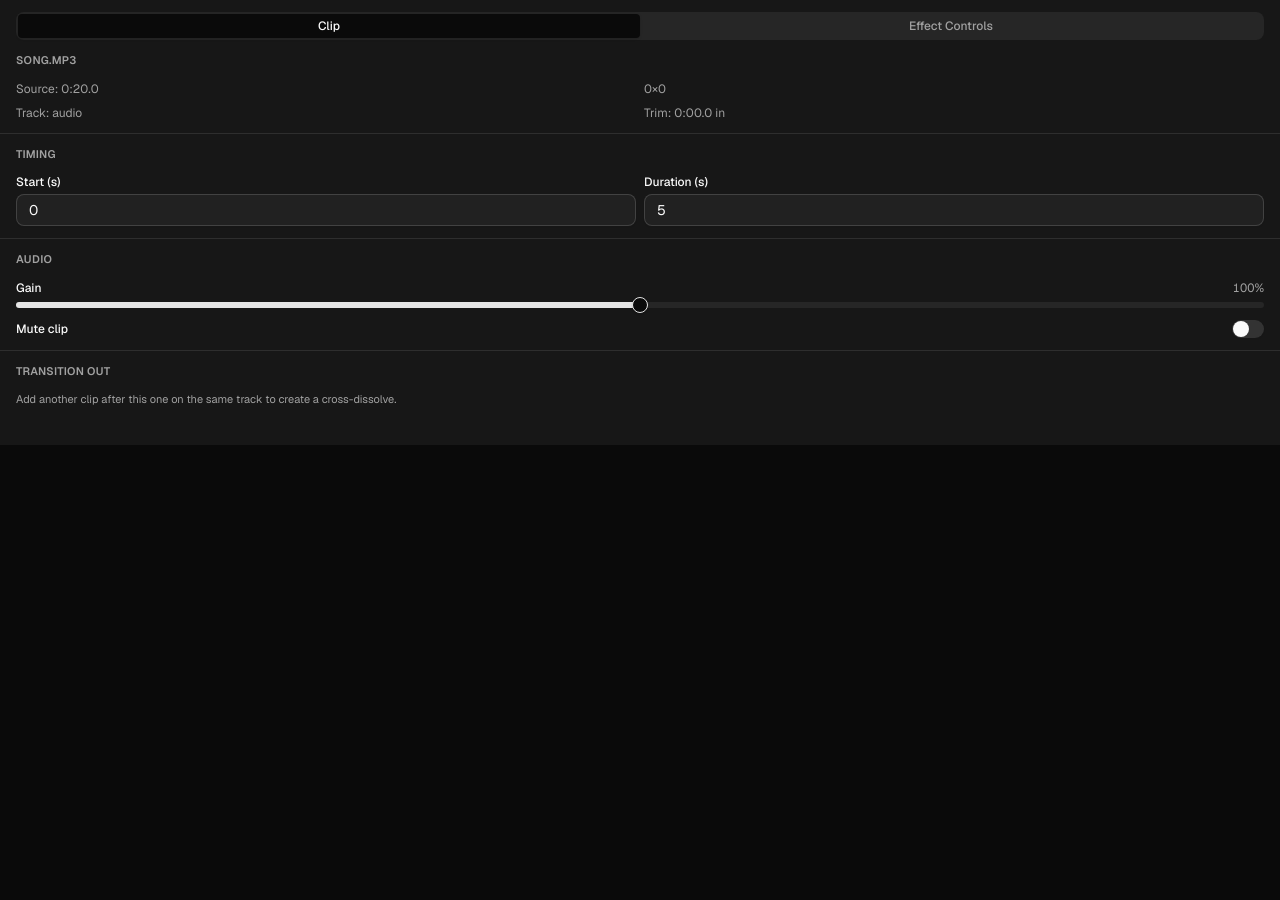
Test: InspectorPanel tabs › an audio clip gets the volume group and the audio shaping section
The width and height of the screenshot is (1280, 900).
What coordinates should you click on to do the following:
click the tab with test id "inspector-tab-effects"
I would click on:
 (951, 26)
Its box is [640, 14, 1262, 38].
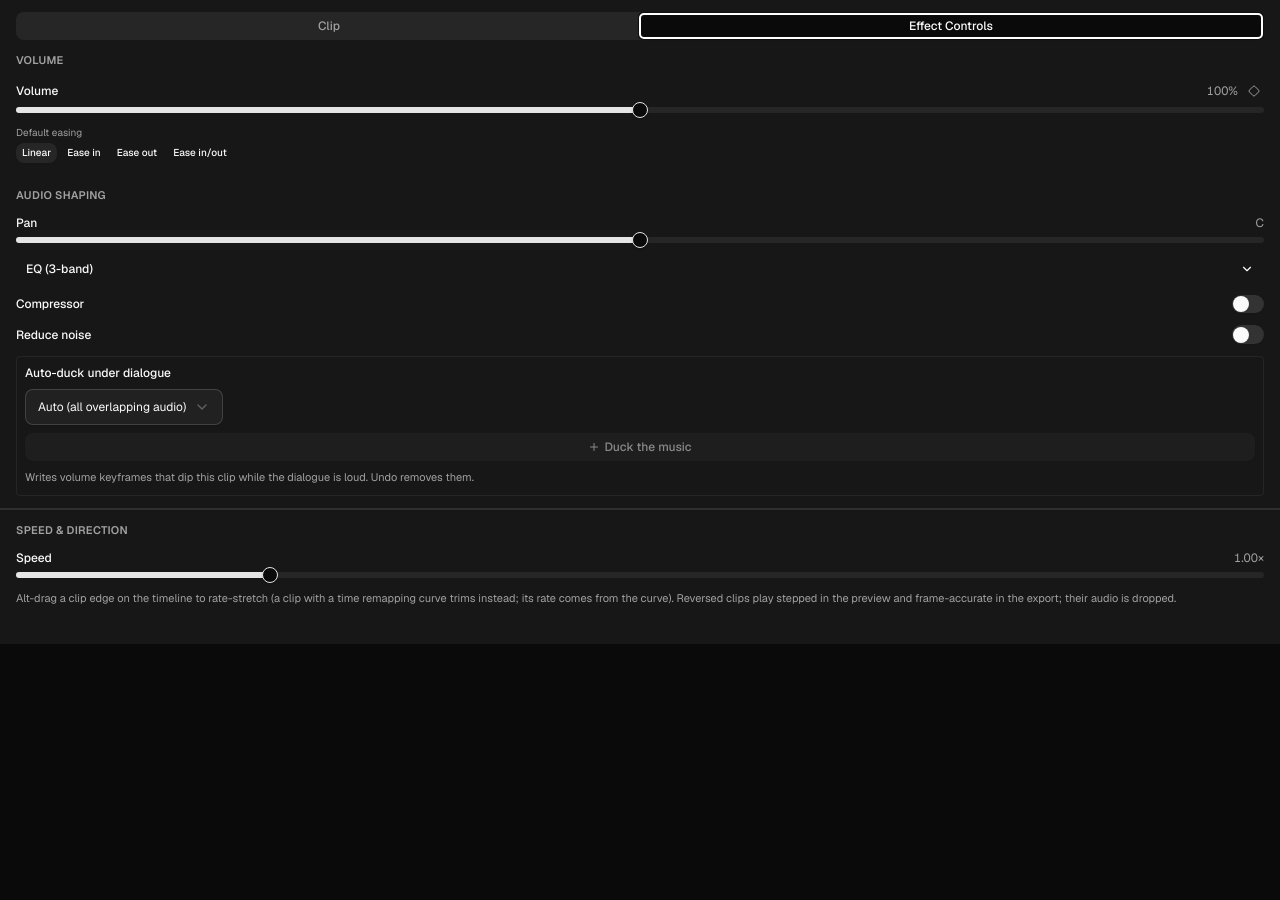
Now the element with test id "prop-volume" is shown, box [16, 80, 1264, 162]
Now the slider named "Clip pan" is shown, box [632, 232, 648, 248]
Now the element with test id "auto-duck" is shown, box [16, 356, 1264, 496]
